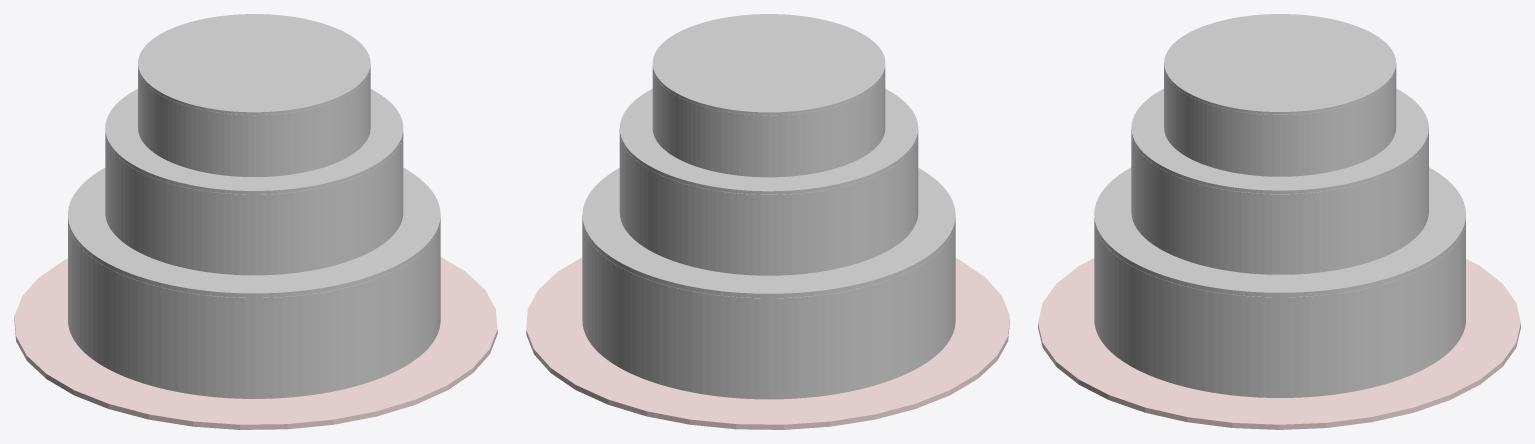
The model's file is CakeBlayer3_smooth.glb.
3 renders of one model, left to right at view 1: azimuth 30°, elevation 25°; view 2: azimuth 150°, elevation 25°; view 3: azimuth 270°, elevation 25°, orthographic.
Visible parts, largest first — view 1: Cylinder.004, Cylinder.006, plate 4.001, Cylinder.009, Cylinder.008, Cylinder.005, Cylinder.007; view 2: Cylinder.004, Cylinder.006, plate 4.001, Cylinder.009, Cylinder.008, Cylinder.005, Cylinder.007; view 3: Cylinder.004, plate 4.001, Cylinder.006, Cylinder.009, Cylinder.008, Cylinder.005, Cylinder.007.
Boxes of the visible parts, x1,y1,x2,y2 form: Cylinder.004: (68, 222, 440, 398); Cylinder.006: (105, 135, 403, 275); plate 4.001: (14, 257, 497, 429); Cylinder.009: (138, 14, 370, 114); Cylinder.008: (138, 67, 370, 176); Cylinder.005: (68, 167, 440, 297); Cylinder.007: (105, 89, 403, 194); Cylinder.004: (582, 220, 955, 399); Cylinder.006: (619, 132, 918, 275); plate 4.001: (526, 257, 1009, 429); Cylinder.009: (652, 14, 885, 115); Cylinder.008: (652, 69, 885, 177); Cylinder.005: (582, 168, 955, 298); Cylinder.007: (619, 89, 918, 194); Cylinder.004: (1094, 223, 1465, 397); plate 4.001: (1038, 258, 1520, 429); Cylinder.006: (1131, 132, 1428, 274); Cylinder.009: (1164, 14, 1396, 114); Cylinder.008: (1164, 66, 1396, 176); Cylinder.005: (1094, 167, 1465, 297); Cylinder.007: (1131, 88, 1428, 193).
Size of the model in its own units: 1.97 by 1.19 by 1.97.
